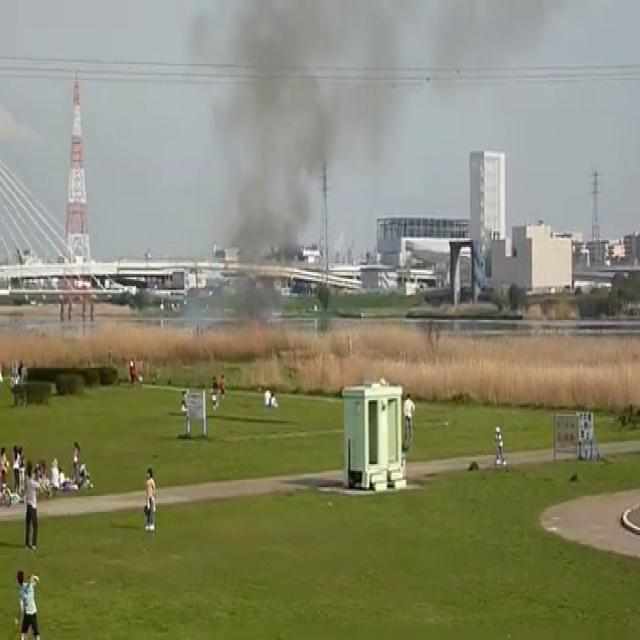Smoke: (196, 0, 429, 243)
